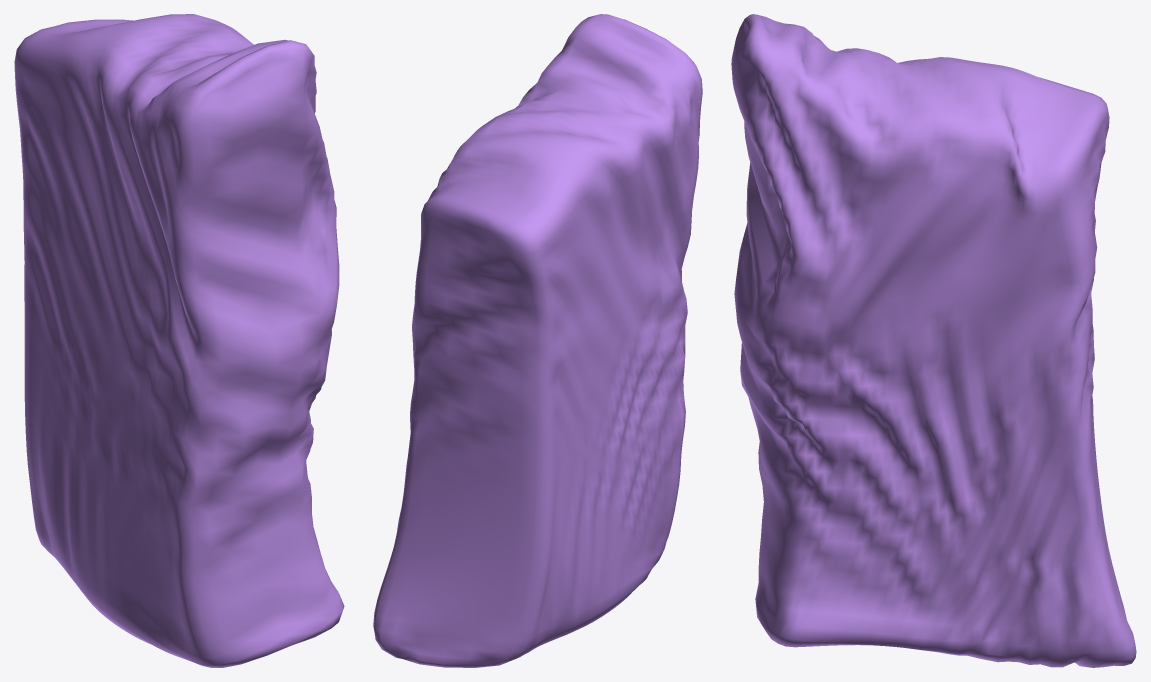
File: SM_Drapes.fbx
3 views of the same model, side by side, from view 1: azimuth 30°, elevation 25°; view 2: azimuth 150°, elevation 25°; view 3: azimuth 270°, elevation 25° (orthographic). The views are drawn at different scales.
Visible parts, largest first — view 1: SM_Drapes; view 2: SM_Drapes; view 3: SM_Drapes.
Boxes of the visible parts, box(x1,y1,x2,y2) form: SM_Drapes: box(14, 14, 344, 667); SM_Drapes: box(373, 14, 702, 667); SM_Drapes: box(731, 14, 1136, 667).
Size of the model in its own units: 0.973 by 2.89 by 1.75.
